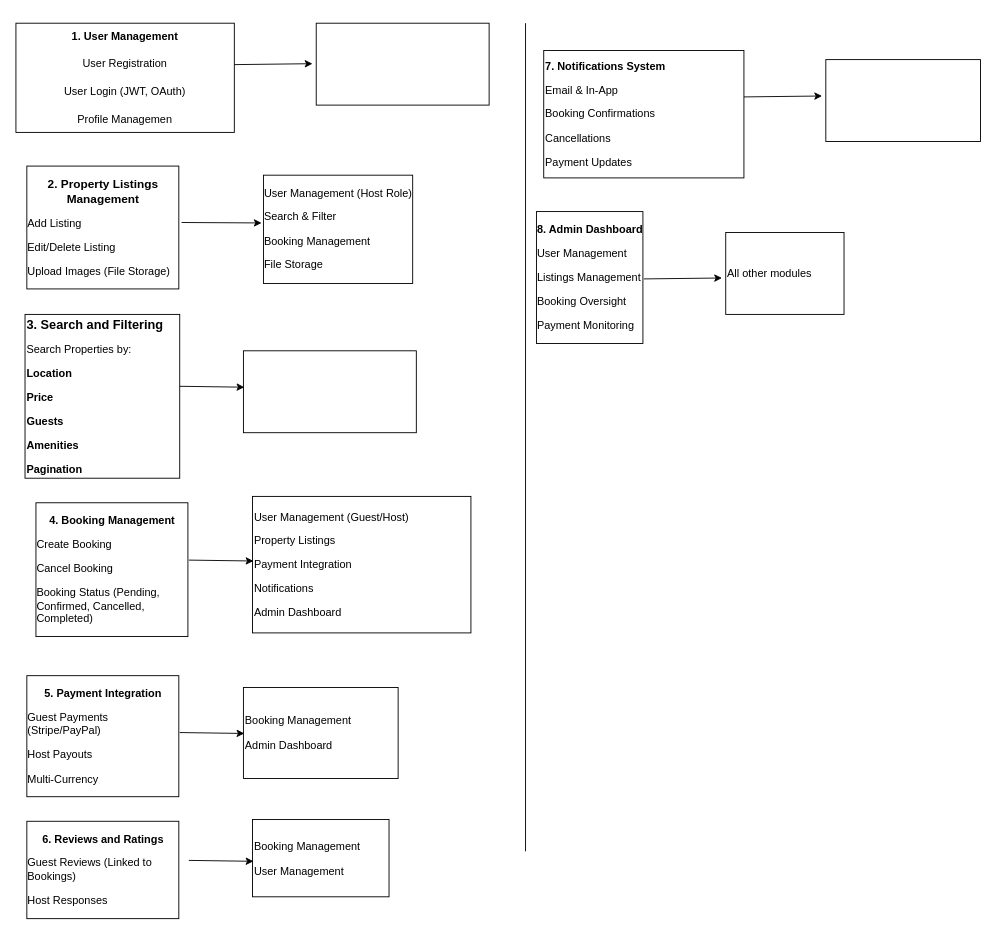
Some shapes in this 996 by 940 pixel diagram are drawn without their labels. The centre of each missing label's shape, as x and y in pixels:
Auth & Access Control Admin Dashboard: pixel 402 63
Booking Management Payment Integration User Management: pixel 903 100
Property Listings: pixel 329 391
